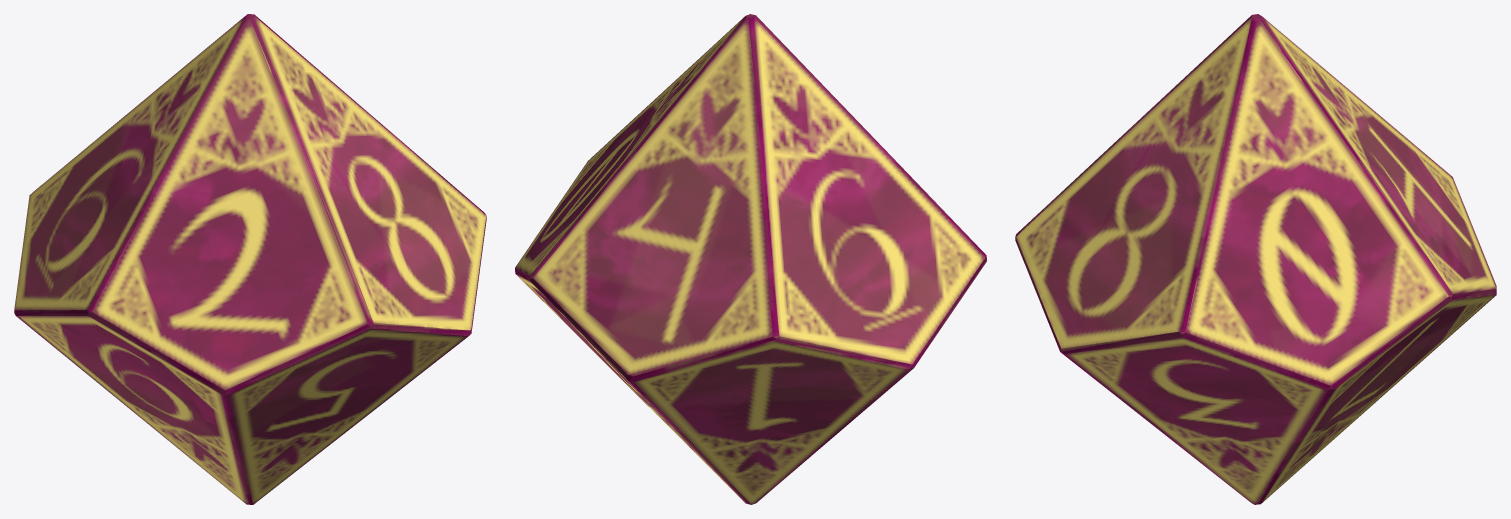
The model's file is GyumaTexturesV4.gltf.
3 views of the same model, side by side, from view 1: azimuth 30°, elevation 25°; view 2: azimuth 150°, elevation 25°; view 3: azimuth 270°, elevation 25° (orthographic).
Parts seen in each view (by area): view 1: polySurface5; view 2: polySurface5; view 3: polySurface5.
Boxes of the visible parts, bbox=[...] form: polySurface5: bbox=[14, 14, 486, 504]; polySurface5: bbox=[515, 14, 986, 504]; polySurface5: bbox=[1015, 14, 1496, 504].
Size of the model in its own units: 0.017 by 0.0199 by 0.0179.
Materials: 1 (1 with a texture image).
